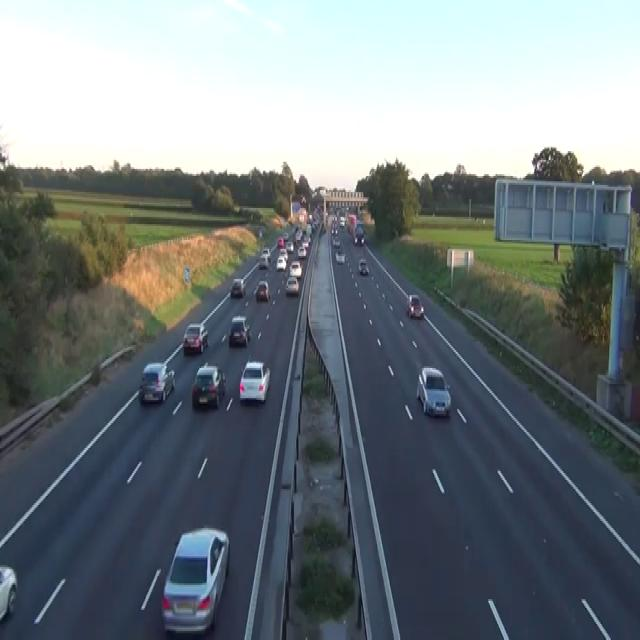Car: (161, 526, 229, 633), (416, 366, 451, 416), (191, 363, 226, 409), (138, 361, 175, 403), (238, 359, 270, 402), (0, 564, 17, 620), (182, 322, 208, 354), (228, 314, 251, 346), (406, 294, 424, 318), (255, 279, 270, 301), (230, 277, 245, 297), (285, 276, 299, 295), (289, 260, 302, 278), (353, 226, 364, 243), (358, 258, 369, 274), (275, 254, 286, 270), (261, 247, 271, 263), (257, 254, 268, 268), (335, 249, 345, 263), (297, 245, 306, 258), (279, 247, 288, 260), (331, 222, 338, 236), (295, 228, 302, 242), (286, 240, 293, 252), (332, 235, 340, 245), (301, 240, 309, 249), (277, 237, 284, 247), (355, 218, 362, 228), (339, 215, 345, 226), (305, 224, 311, 235), (300, 194, 305, 204), (283, 231, 288, 240), (258, 228, 262, 236), (308, 214, 312, 222)
